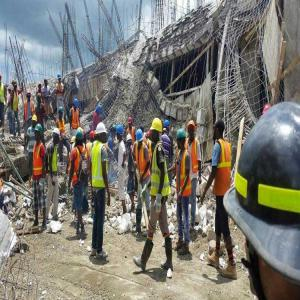blue: (137, 130, 144, 145), (118, 125, 124, 142), (165, 121, 171, 133), (97, 105, 102, 116), (74, 100, 79, 110), (58, 73, 62, 82)
none: (213, 119, 225, 142), (45, 78, 49, 87)
red: (188, 121, 196, 139), (90, 131, 95, 143), (27, 91, 32, 102), (129, 117, 133, 128)
white: (97, 123, 108, 144), (54, 128, 61, 145), (127, 134, 133, 147)
yellow: (152, 118, 163, 142), (32, 116, 38, 128), (71, 137, 76, 146)
